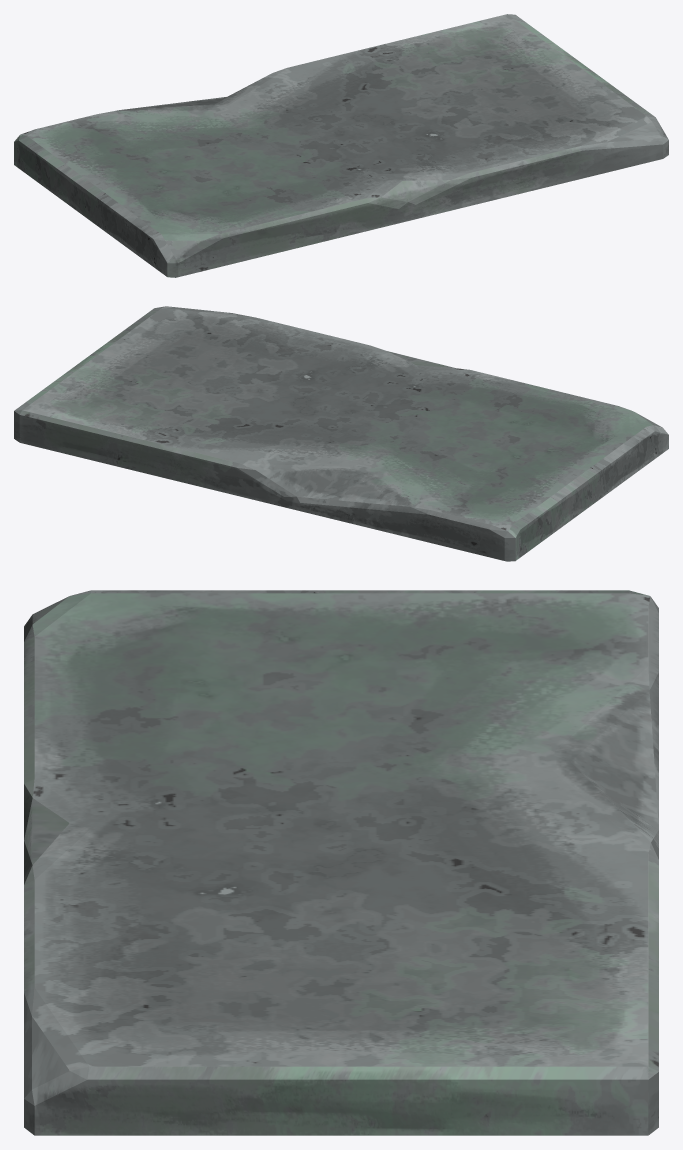
Rendered from roadplane02.fbx.
The picture shows the model from 3 angles, top to bottom: view 1: azimuth 30°, elevation 25°; view 2: azimuth 150°, elevation 25°; view 3: azimuth 270°, elevation 25°; orthographic projection. The views are drawn at different scales.
Parts seen in each view (by area): view 1: roadplane02; view 2: roadplane02; view 3: roadplane02.
Boxes of the visible parts, x1=… form: roadplane02: x1=14, y1=14, x2=668, y2=277; roadplane02: x1=14, y1=306, x2=668, y2=561; roadplane02: x1=24, y1=590, x2=658, y2=1135.
Bounding box in the file's own units: 847 × 53.41 × 464.
